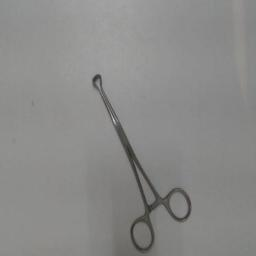Babcock Tissue Forceps: (91, 70, 195, 254)
